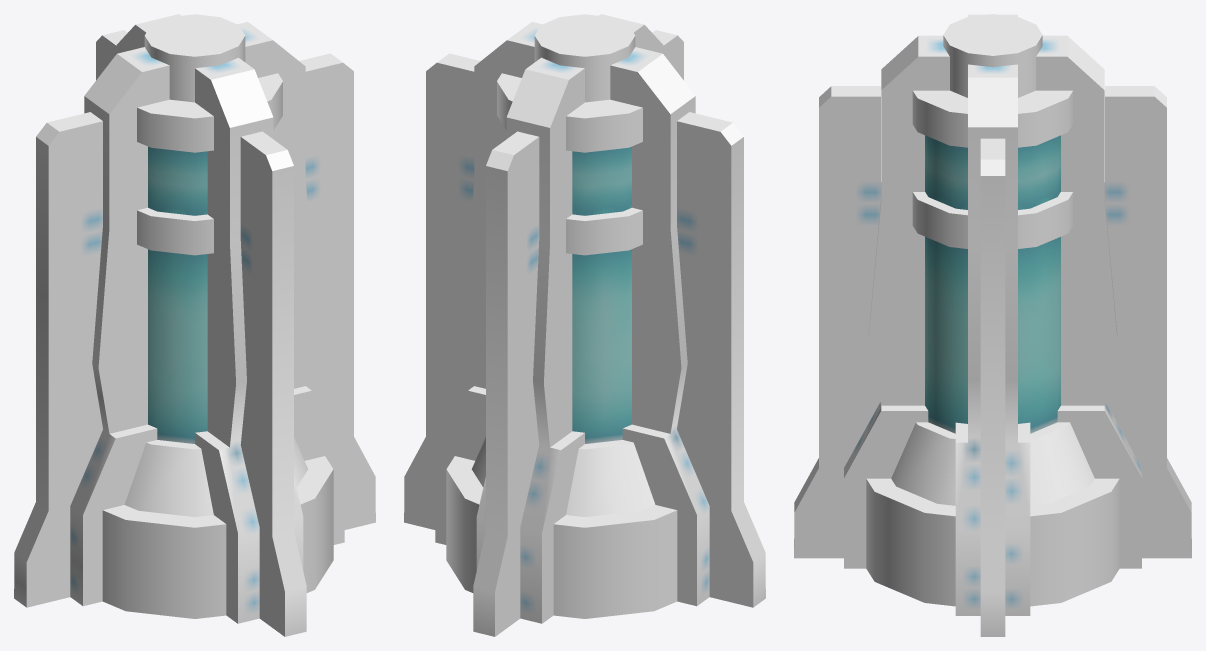
The model's file is pylon_overlay.obj.
The picture shows the model from 3 angles, left to right: view 1: azimuth 30°, elevation 25°; view 2: azimuth 150°, elevation 25°; view 3: azimuth 270°, elevation 25°; orthographic projection.
Parts seen in each view (by area): view 1: tin_arm002, thick_arm002, tin_arm001, thick_arm001, tin_arm, base, main_tube, thick_arm, base_cone, cap, top_ring, middle_ring (+2 smaller); view 2: tin_arm002, thick_arm002, tin_arm003, thick_arm003, tin_arm, base, main_tube, thick_arm, base_cone, cap, top_ring, middle_ring (+2 smaller); view 3: tin_arm001, tin_arm003, thick_arm001, thick_arm003, thick_arm, main_tube, base, tin_arm, base_cone, cap, top_ring, middle_ring.
Boxes of the visible parts, left/top/right/bottom form: tin_arm002: left=14, top=112, right=102, bottom=607; thick_arm002: left=70, top=47, right=169, bottom=606; tin_arm001: left=240, top=131, right=306, bottom=636; thick_arm001: left=195, top=57, right=303, bottom=623; tin_arm: left=299, top=53, right=375, bottom=529; base: left=102, top=456, right=333, bottom=618; main_tube: left=148, top=146, right=207, bottom=443; thick_arm: left=238, top=22, right=344, bottom=544; base_cone: left=124, top=437, right=308, bottom=516; cap: left=144, top=14, right=245, bottom=102; top_ring: left=137, top=73, right=282, bottom=152; middle_ring: left=137, top=207, right=213, bottom=255; tin_arm002: left=677, top=112, right=765, bottom=607; thick_arm002: left=610, top=47, right=709, bottom=606; tin_arm003: left=473, top=131, right=539, bottom=636; thick_arm003: left=476, top=57, right=584, bottom=623; tin_arm: left=404, top=53, right=480, bottom=529; base: left=446, top=456, right=677, bottom=618; main_tube: left=572, top=146, right=631, bottom=443; thick_arm: left=435, top=22, right=541, bottom=544; base_cone: left=471, top=437, right=655, bottom=516; cap: left=534, top=14, right=635, bottom=102; top_ring: left=497, top=73, right=642, bottom=152; middle_ring: left=566, top=207, right=642, bottom=255; tin_arm001: left=794, top=86, right=880, bottom=558; tin_arm003: left=1105, top=86, right=1191, bottom=558; thick_arm001: left=844, top=35, right=949, bottom=568; thick_arm003: left=1036, top=35, right=1141, bottom=568; thick_arm: left=955, top=64, right=1030, bottom=615; main_tube: left=925, top=135, right=1060, bottom=433; base: left=866, top=478, right=1119, bottom=606; tin_arm: left=980, top=138, right=1005, bottom=636; base_cone: left=891, top=422, right=1094, bottom=505; cap: left=943, top=14, right=1042, bottom=97; top_ring: left=912, top=90, right=1073, bottom=147; middle_ring: left=912, top=192, right=1073, bottom=248.
Size of the model in its own units: 1.98 by 2.85 by 1.98.
